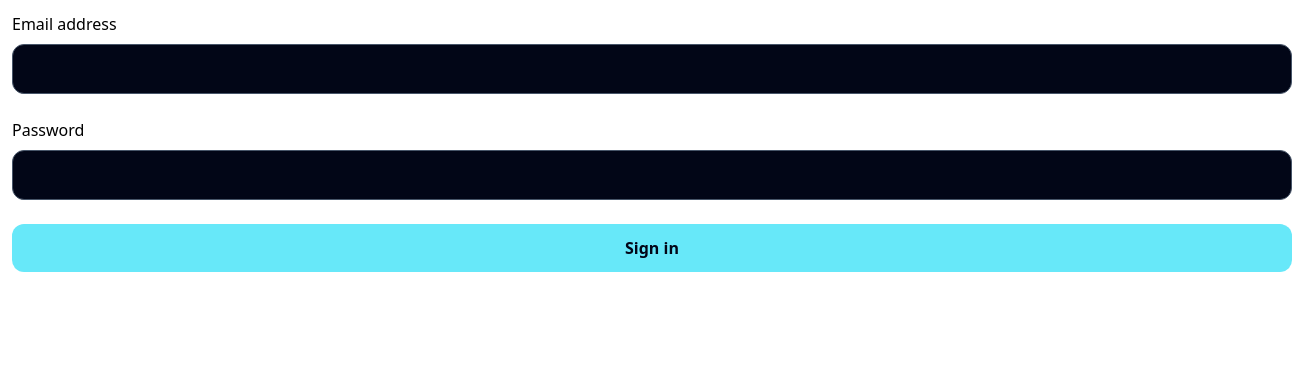
login form (mocked Supabase) › handles network failures and disabled configuration safely
Later steps or results of the test are not shown.
Type "person@example.invalid" into the field labelled "Email address" at (652, 69), box 12,44 -> 1292,94
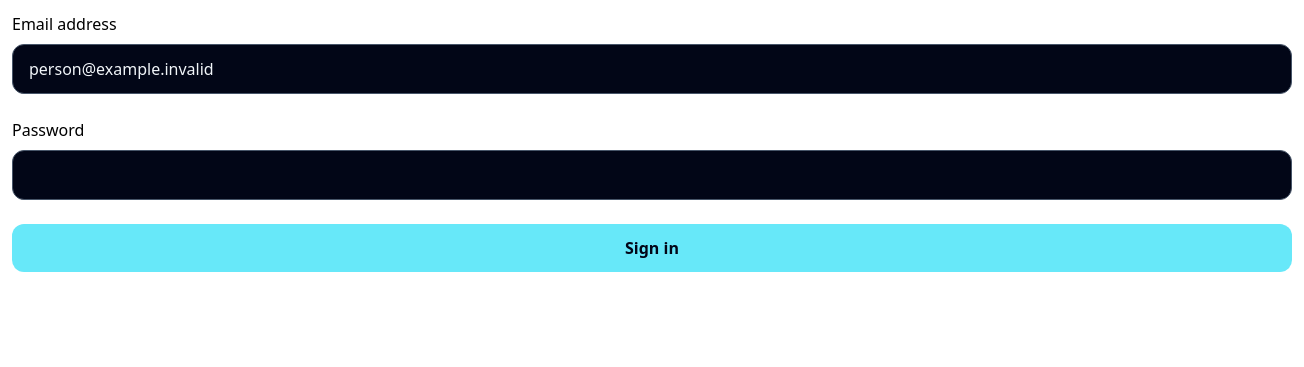
Type " test-password " into the password field labelled "Password" at (652, 175), box 12,150 -> 1292,200
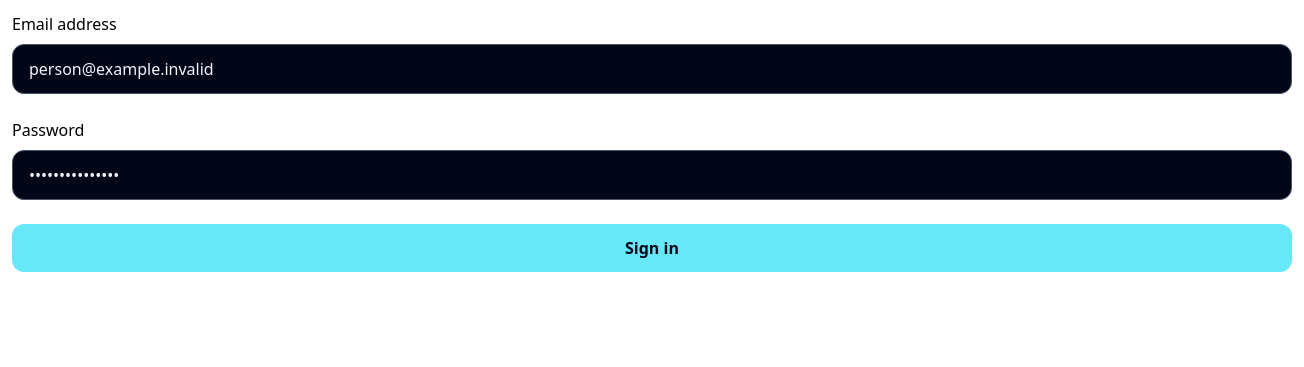
Click the button "Sign in" at (652, 248), box 12,224 -> 1292,272
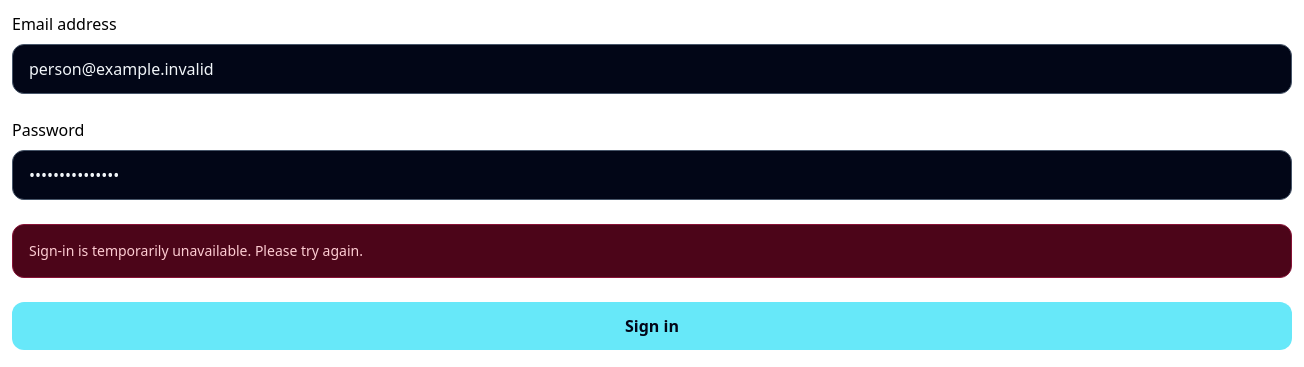
Now the message shows "temporarily unavailable", box 29,241 -> 363,260
